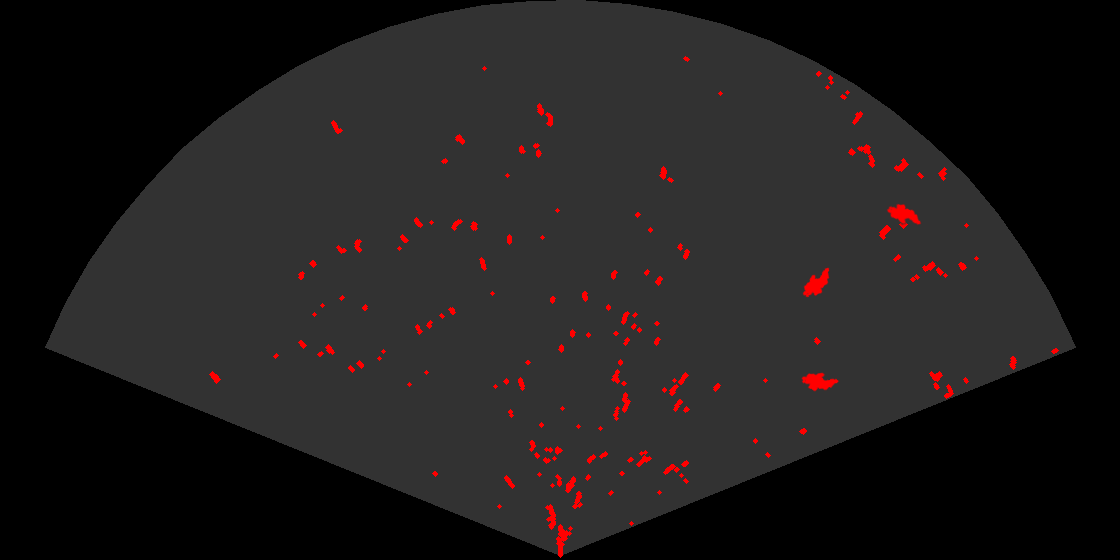AUV: (801, 266, 831, 299), (885, 202, 923, 227), (800, 371, 841, 393)
